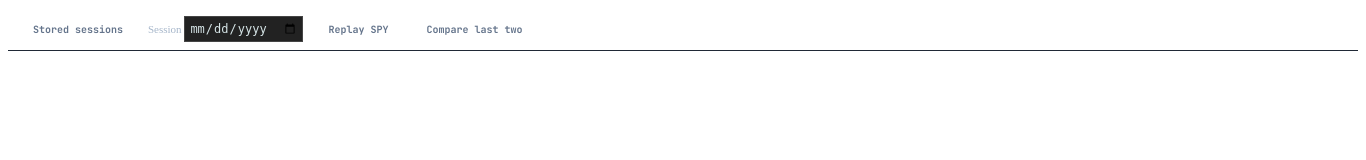
Test: replay strip shows truthful recorder badge (R6-3)
Step 1. Click the button with test id "solstice-replay-load" → coordinates (358, 29), box [315, 18, 401, 40]
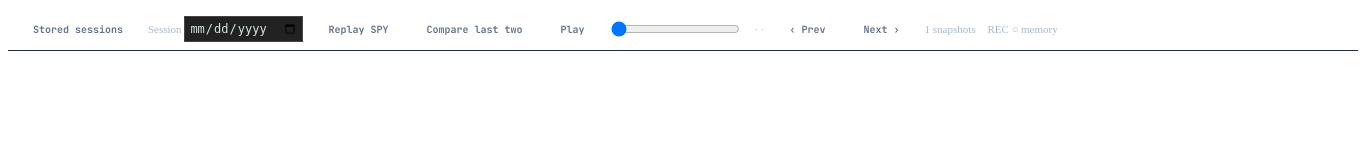
Expected: the text with test id "solstice-recorder-badge" shows "memory", [1012, 23, 1058, 35]
